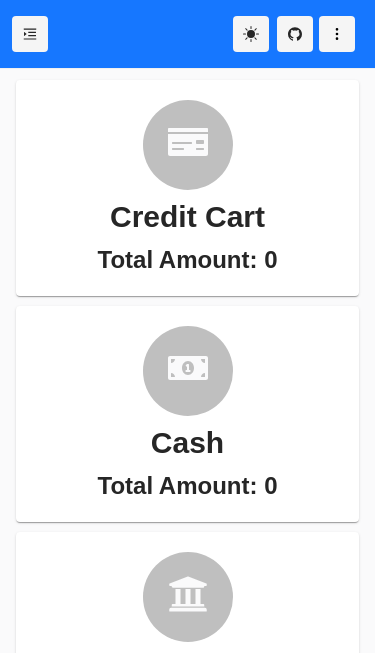
Test case: Home should be render mobile layout › On view port mobile s more menu should be render
This screenshot has width=375, height=653.
Click the 3rd button.
click(337, 34)  # box [319,16,355,52]
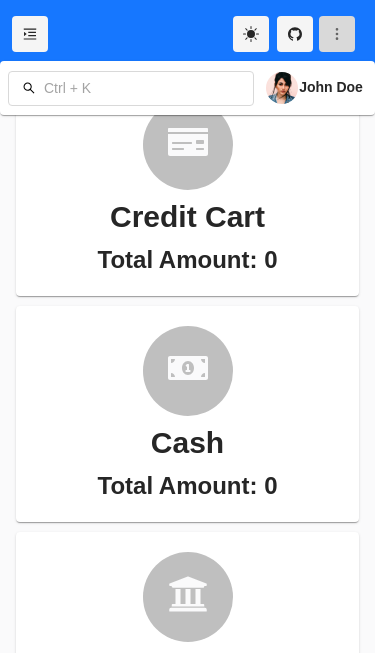
Expected: the element showing "John Doe" is shown, [0,61,374,115]
Click the header.
click(188, 35)  # box [0,0,374,69]
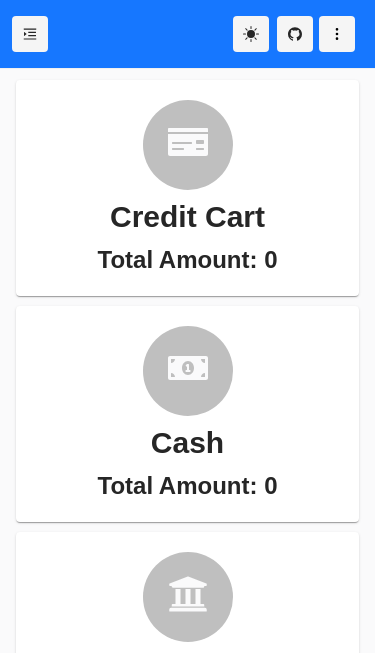
Expected: the text "John Doe" is gone
